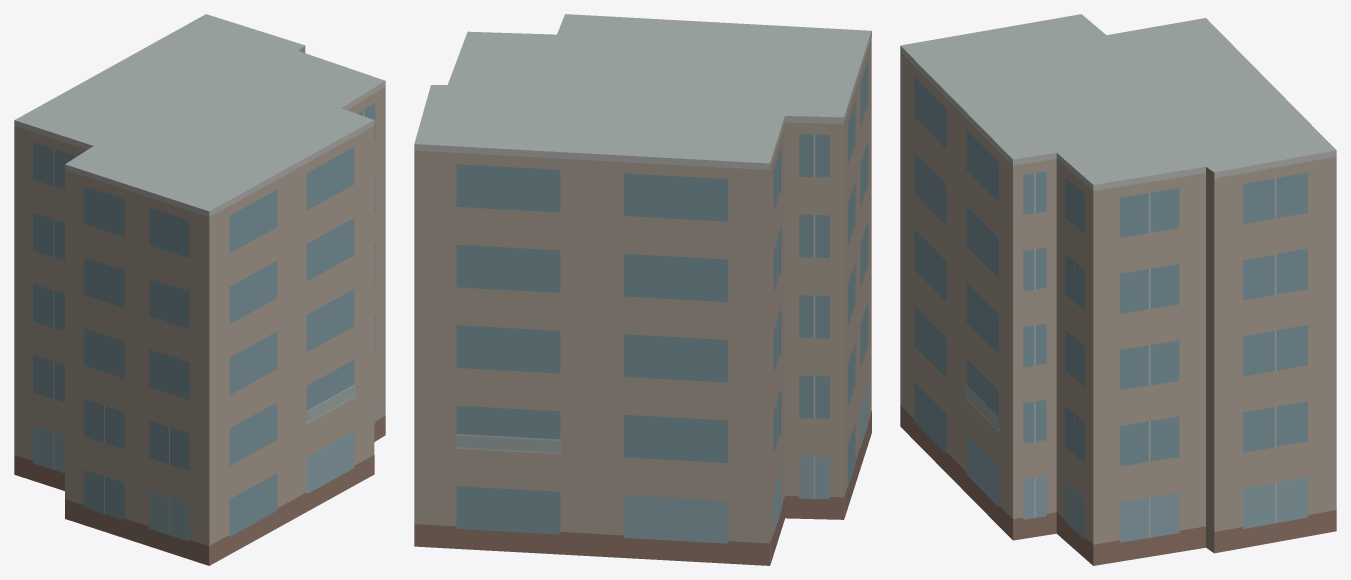
File: survey-upis-32860430.glb
3 views of the same model, side by side, from view 1: azimuth 30°, elevation 25°; view 2: azimuth 150°, elevation 25°; view 3: azimuth 270°, elevation 25° (orthographic). The views are drawn at different scales.
Visible parts, largest first — view 1: survey-upis-32860430.tmp; view 2: survey-upis-32860430.tmp; view 3: survey-upis-32860430.tmp.
Boxes of the visible parts, left/top/right/bottom form: survey-upis-32860430.tmp: left=14, top=14, right=385, bottom=565; survey-upis-32860430.tmp: left=414, top=14, right=871, bottom=565; survey-upis-32860430.tmp: left=900, top=14, right=1336, bottom=565.
Size of the model in its own units: 14.39 by 14.94 by 15.52.
